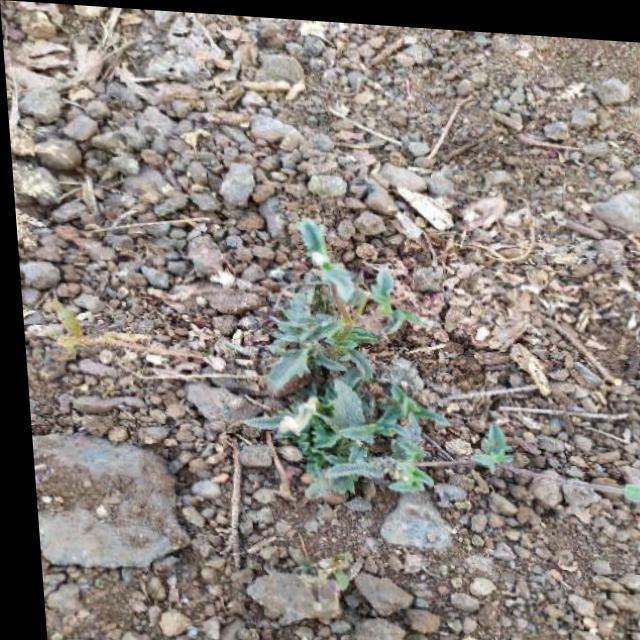weed: (234, 223, 515, 506)
